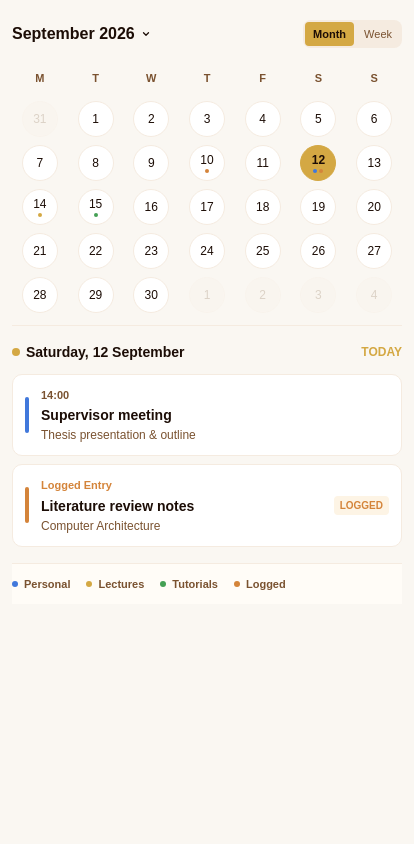
it: CalendarPage › lists the chosen day on mobile, with event details and logged entries
expect the text "Thesis presentation & outline" is shown: met, box [41,428,196,442]
expect the text "Logged Entry" is shown: met, box [41,479,112,491]
Click the button named "Thursday, 10 September".
click(207, 162)  # box [189,144,225,180]
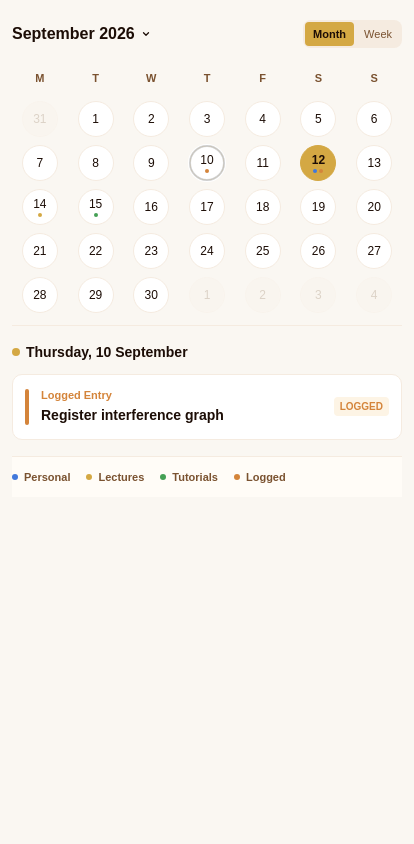
expect the heading "Thursday, 10 September" is shown: met, box [12,342,188,362]
